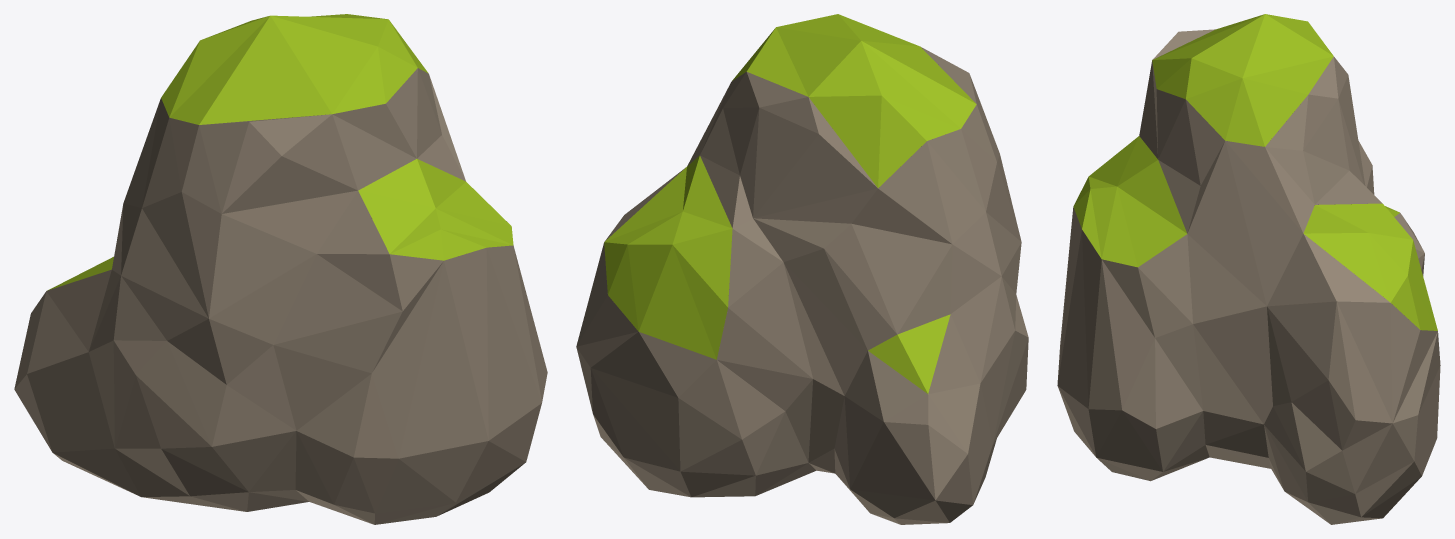
Rendered from village_pack_rock_4.glb.
3 views of the same model, side by side, from view 1: azimuth 30°, elevation 25°; view 2: azimuth 150°, elevation 25°; view 3: azimuth 270°, elevation 25° (orthographic). The views are drawn at different scales.
Parts seen in each view (by area): view 1: rock 4_grass 1_0; view 2: rock 4_grass 1_0; view 3: rock 4_grass 1_0.
Boxes of the visible parts, box(x1,y1,x2,y2) form: rock 4_grass 1_0: box(14, 14, 547, 524); rock 4_grass 1_0: box(576, 14, 1028, 524); rock 4_grass 1_0: box(1057, 14, 1440, 524).
Size of the model in its own units: 6.08 by 6.56 by 5.26.
